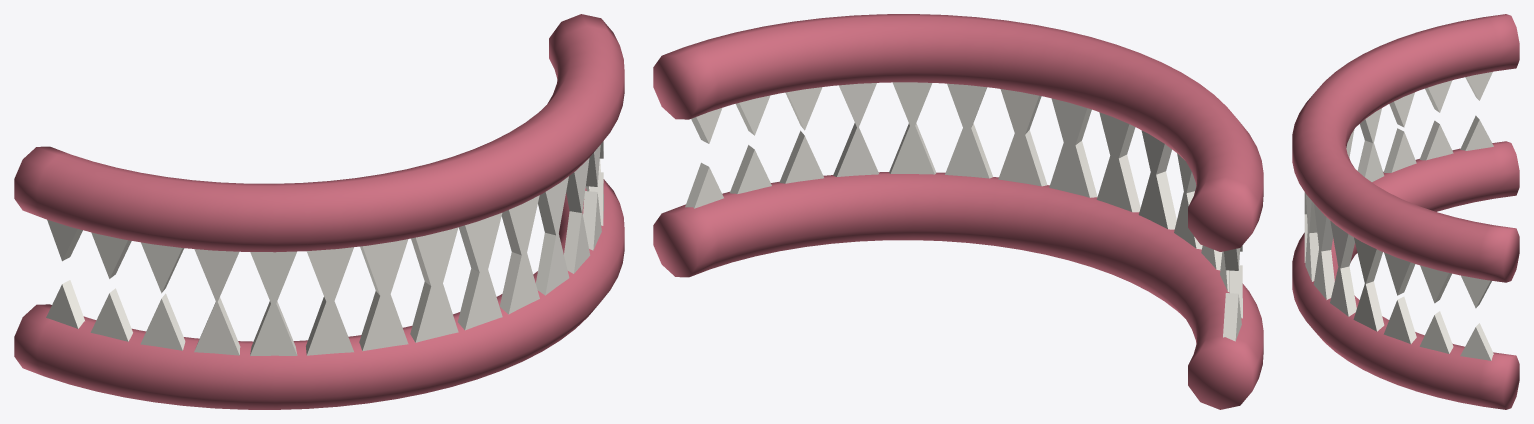
File: サメの歯_sharkteeth.glb
3 views of the same model, side by side, from view 1: azimuth 30°, elevation 25°; view 2: azimuth 150°, elevation 25°; view 3: azimuth 270°, elevation 25° (orthographic). The views are drawn at different scales.
Visible parts, largest first — view 1: sharkteeth; view 2: sharkteeth; view 3: sharkteeth.
Part boxes in pixels (x1,y1,x2,y2): sharkteeth: (14,14,624,409); sharkteeth: (653,14,1263,409); sharkteeth: (1292,14,1519,409).
Size of the model in its own units: 0.0636 by 0.0224 by 0.0259.
